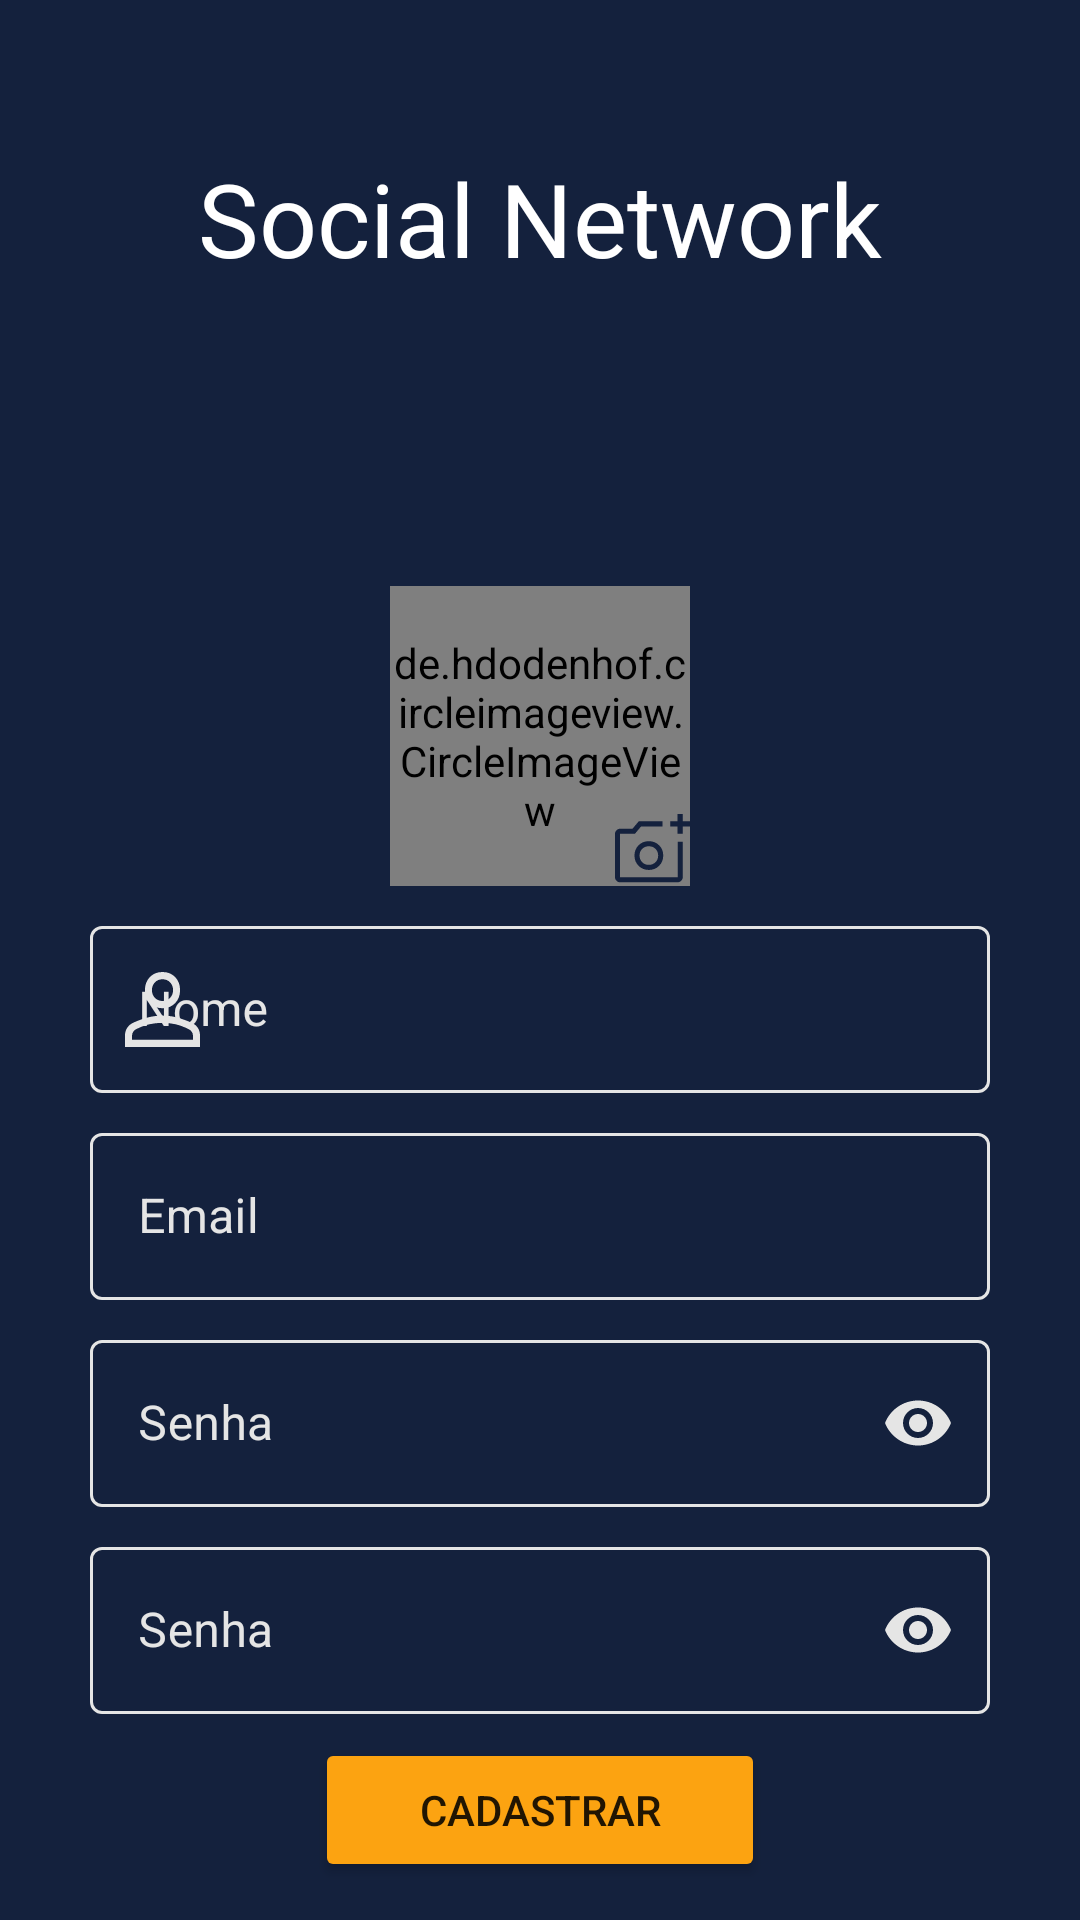

Icon click points for this 1080*1920 phone screenshot, format point (x, y):
add photo: point (652, 848)
